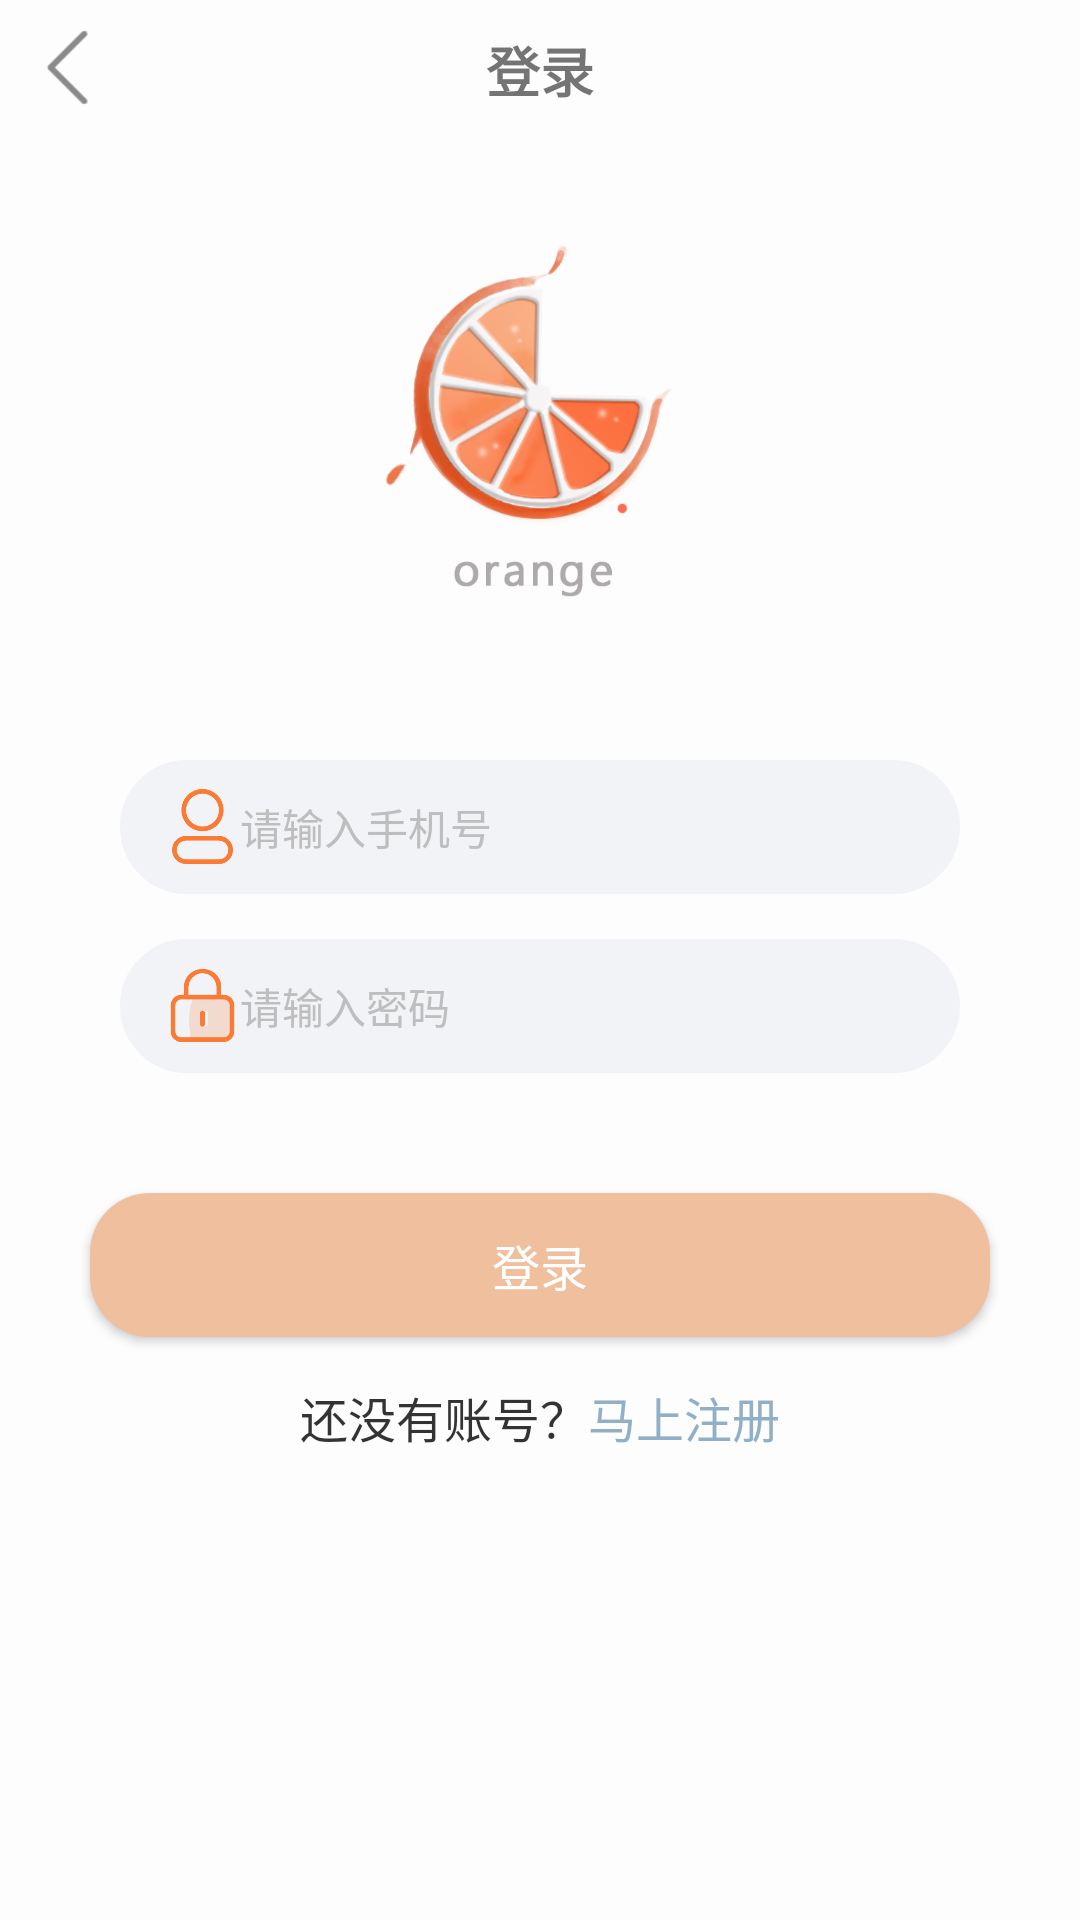

Screen size 1080*1920. Icon name, then its box in pixels as detection(x1, y1, x2, y2):
back page: detection(47, 31, 88, 104)
login register edit password: detection(170, 969, 235, 1042)
login register edit user: detection(172, 789, 233, 864)
